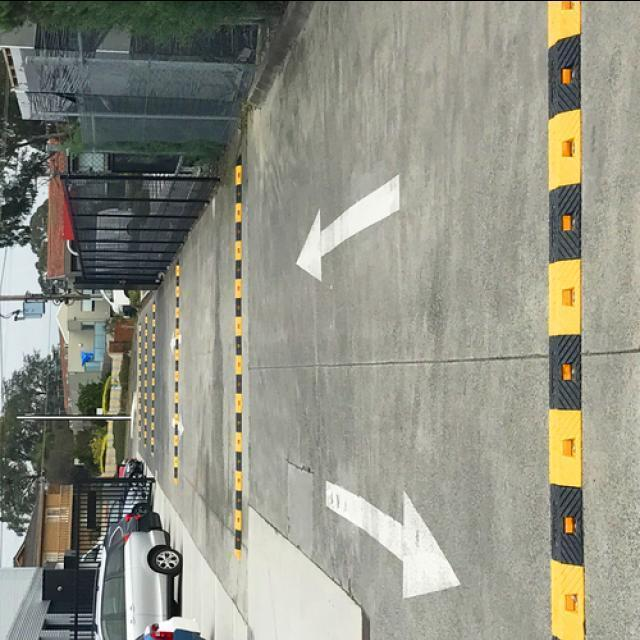speedbreaker: (542, 2, 590, 640), (232, 147, 245, 557), (170, 255, 180, 485), (150, 296, 156, 458), (144, 311, 148, 449), (138, 322, 140, 437)
